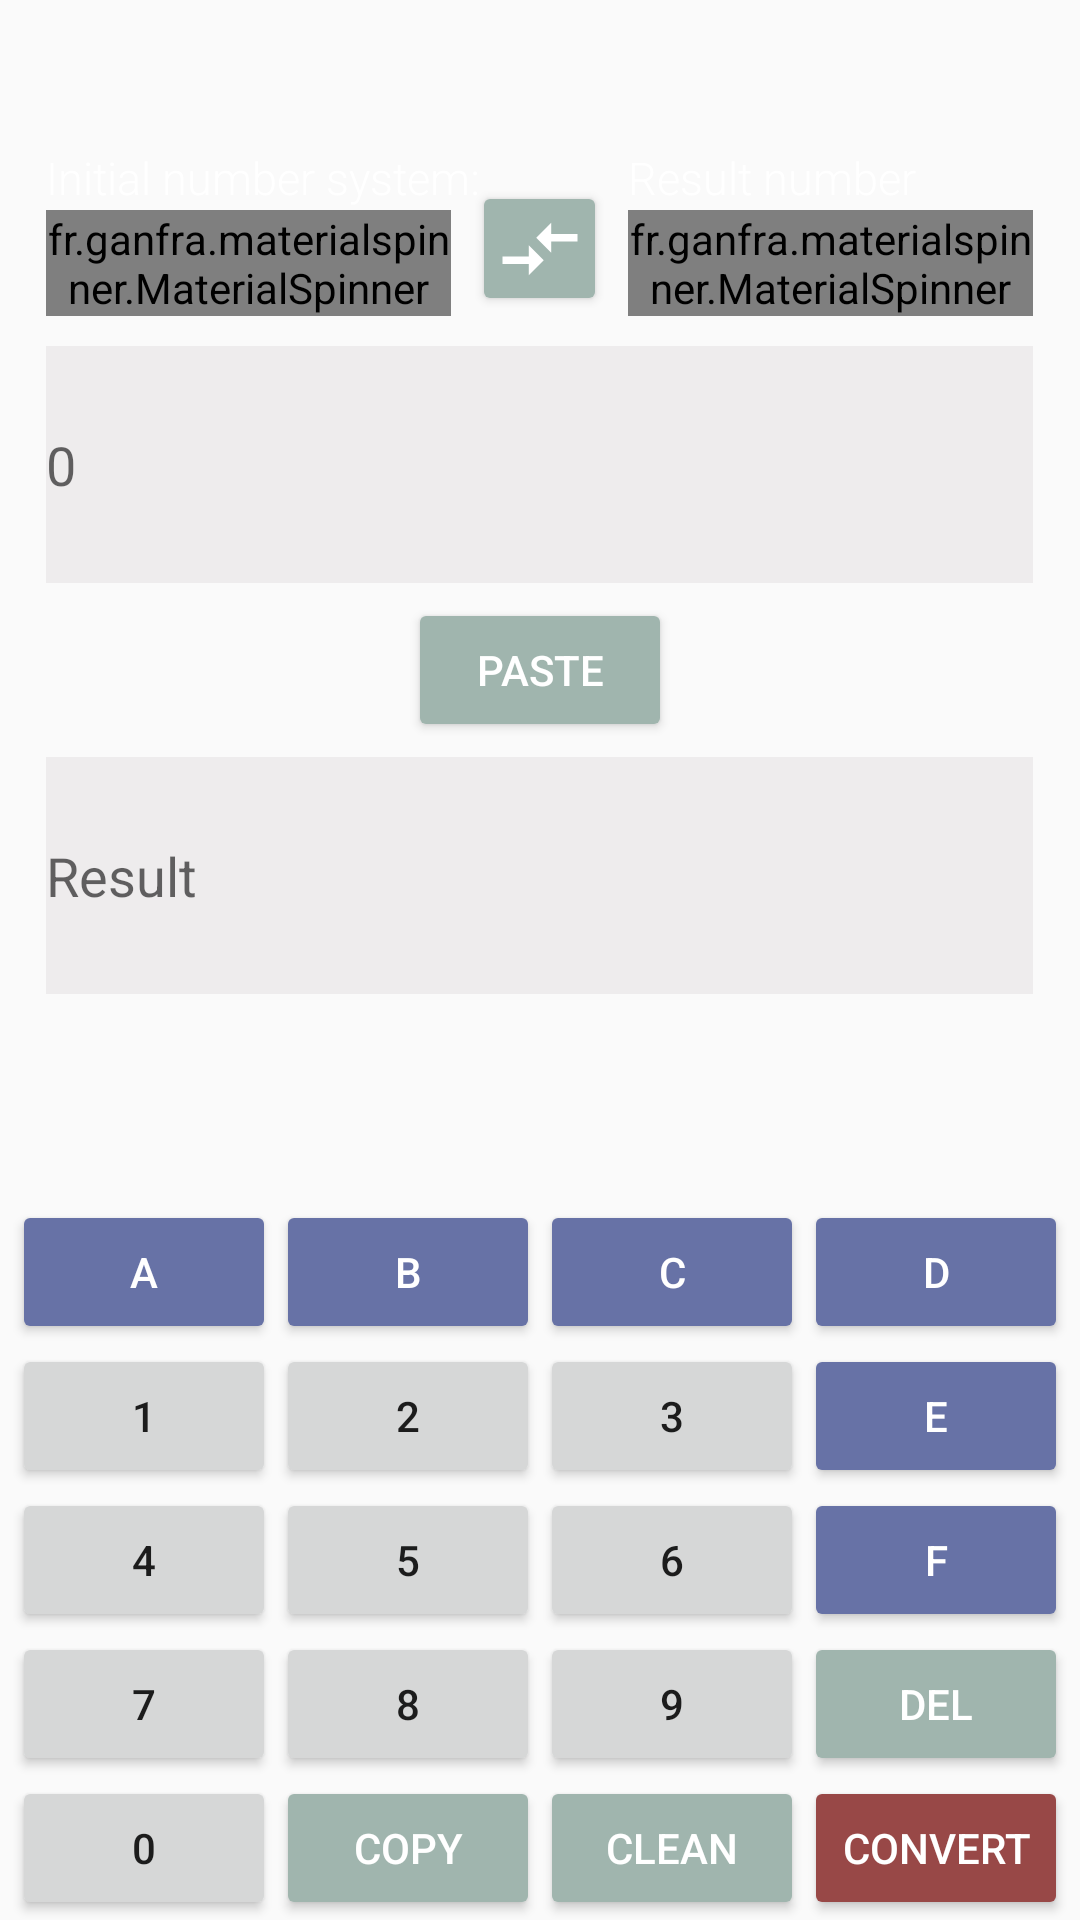

Icon click points for this 1080w x 1920h phone screenshot, format (x,y):
compare arrows: (539,249)
